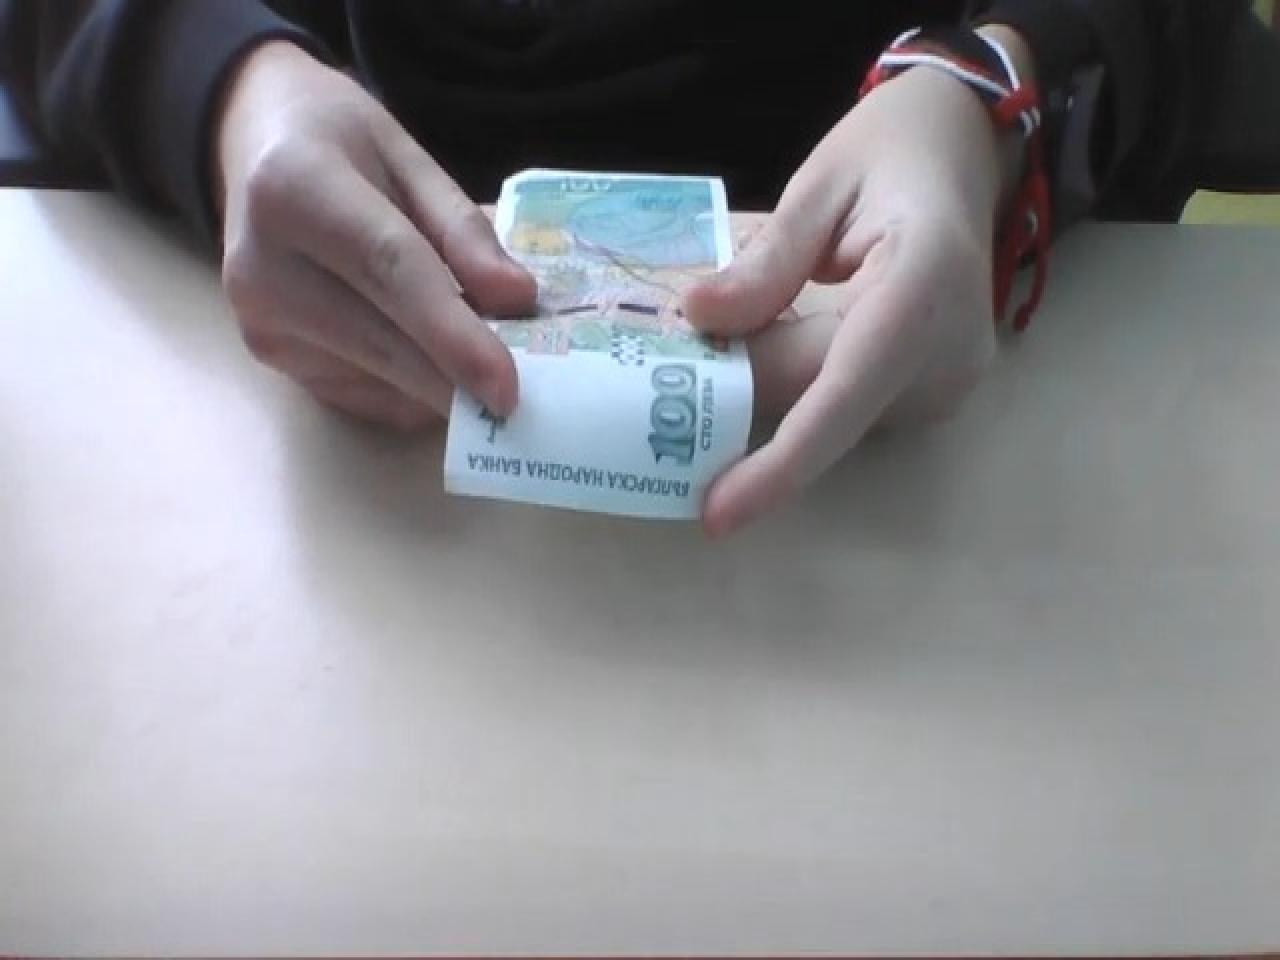100leva: (440, 165, 756, 522)
